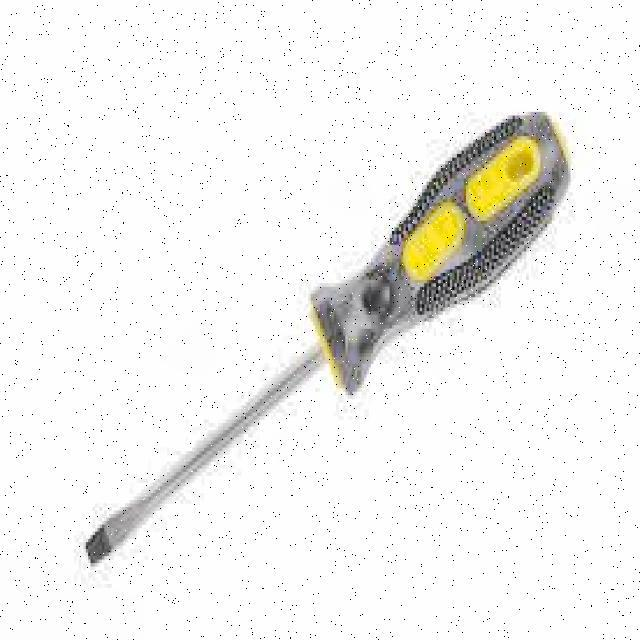screwdriver: (85, 111, 570, 564)
